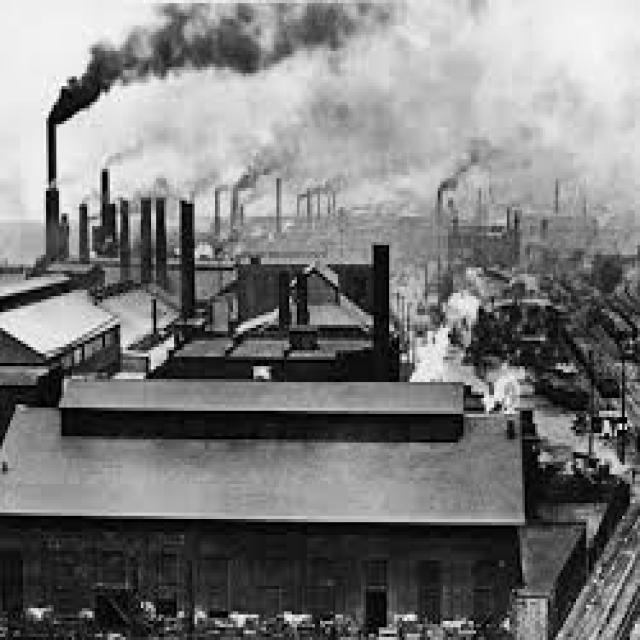Smoke: (37, 0, 640, 216)
